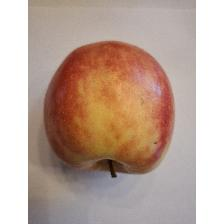Apfel: (40, 36, 178, 180)
